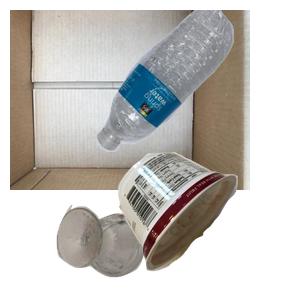cardboard: (10, 10, 250, 190)
glass: (54, 202, 193, 300)
plastic: (94, 10, 300, 154)
trash: (116, 149, 300, 300)
